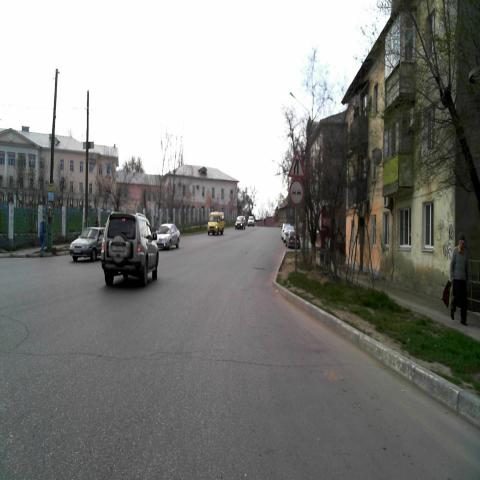1_20_3: (288, 149, 306, 180)
